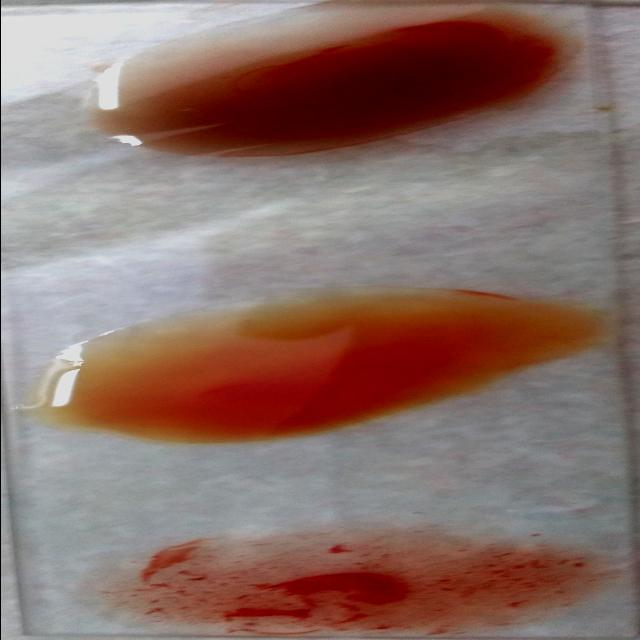D: (116, 538, 596, 633)
